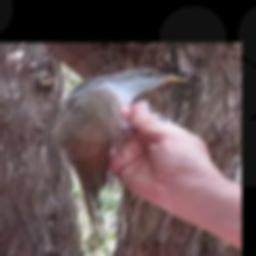Cuckoo: (52, 68, 190, 247)
